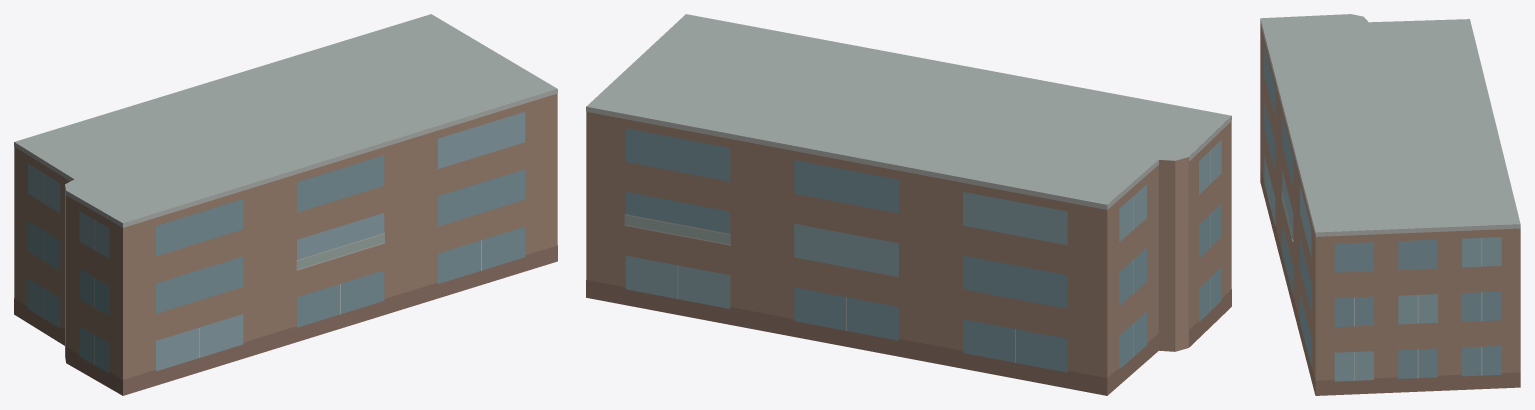
The model's file is survey-upis-32664335.glb.
The picture shows the model from 3 angles, left to right: view 1: azimuth 30°, elevation 25°; view 2: azimuth 150°, elevation 25°; view 3: azimuth 270°, elevation 25°; orthographic projection. The views are drawn at different scales.
Visible parts, largest first — view 1: survey-upis-32664335.tmp; view 2: survey-upis-32664335.tmp; view 3: survey-upis-32664335.tmp.
Boxes of the visible parts, x1=… form: survey-upis-32664335.tmp: x1=14, y1=14, x2=557, y2=395; survey-upis-32664335.tmp: x1=586, y1=14, x2=1231, y2=395; survey-upis-32664335.tmp: x1=1260, y1=14, x2=1520, y2=395.
Size of the model in its own units: 26.26 by 9.15 by 13.22.
